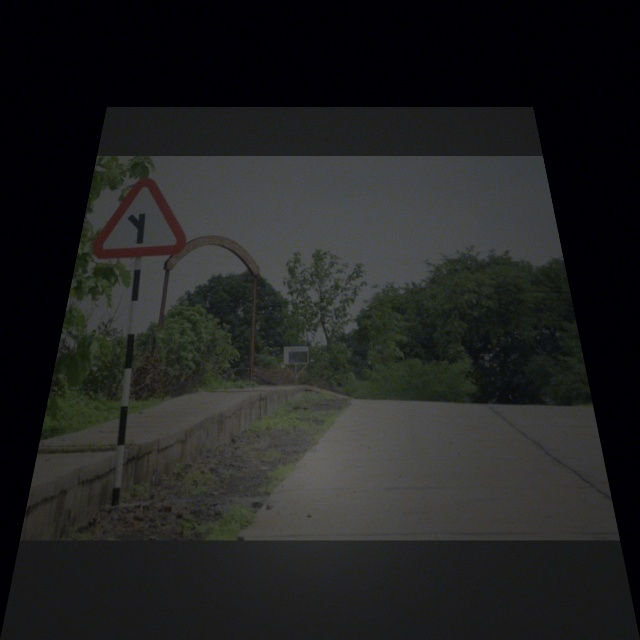Y_Intersection: (91, 177, 195, 259)
